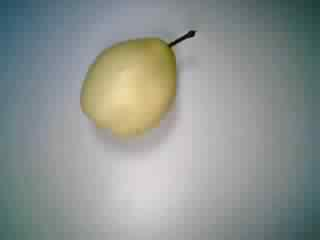pear: (69, 24, 204, 143)
